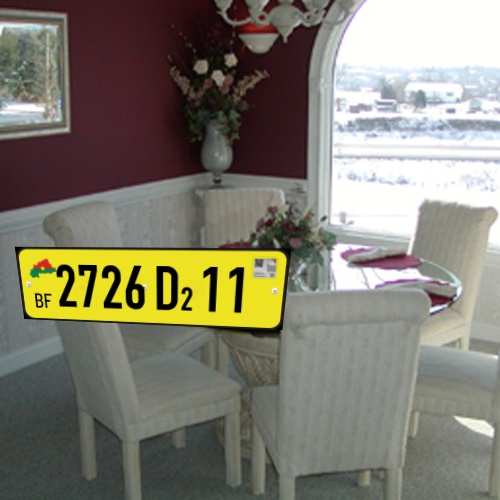plate: (9, 234, 298, 349)
